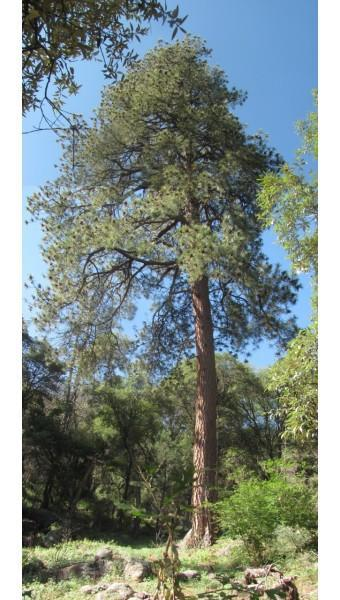tree: (35, 34, 295, 546)
